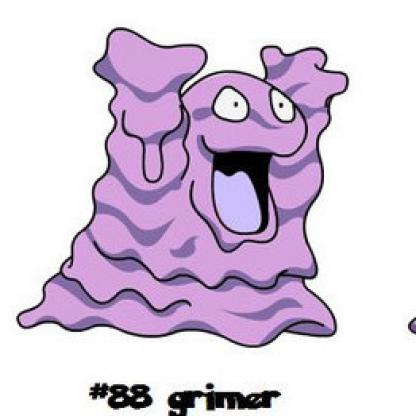Grimer: (34, 21, 362, 350)
